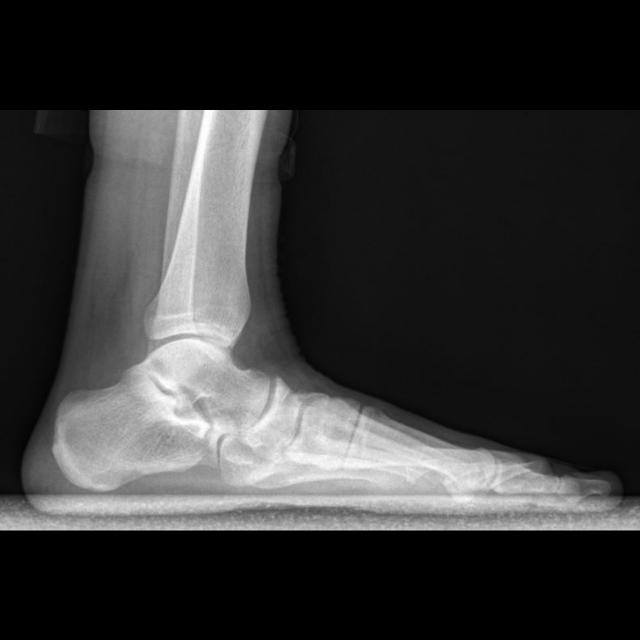a: (53, 360, 210, 491)
b: (237, 376, 304, 459)
c: (343, 405, 496, 484)
